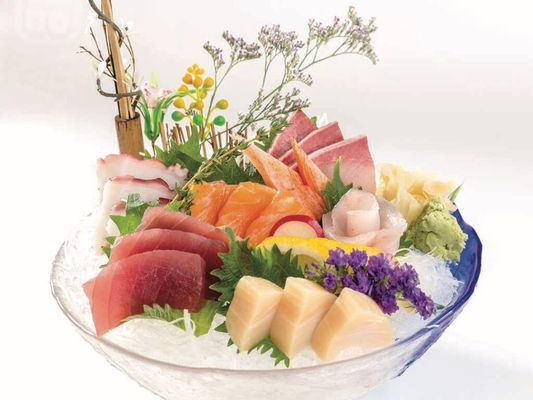curry: (399, 195, 467, 262)
sushi: (17, 42, 497, 398), (53, 160, 482, 400)
